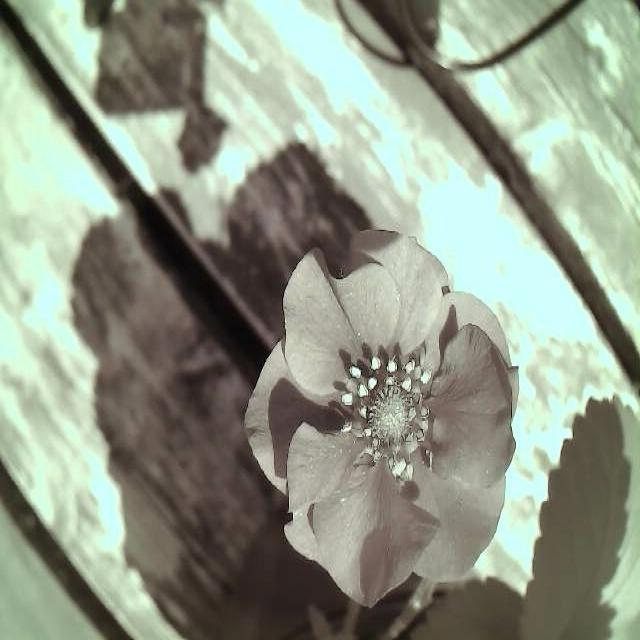flower: (242, 209, 522, 617)
